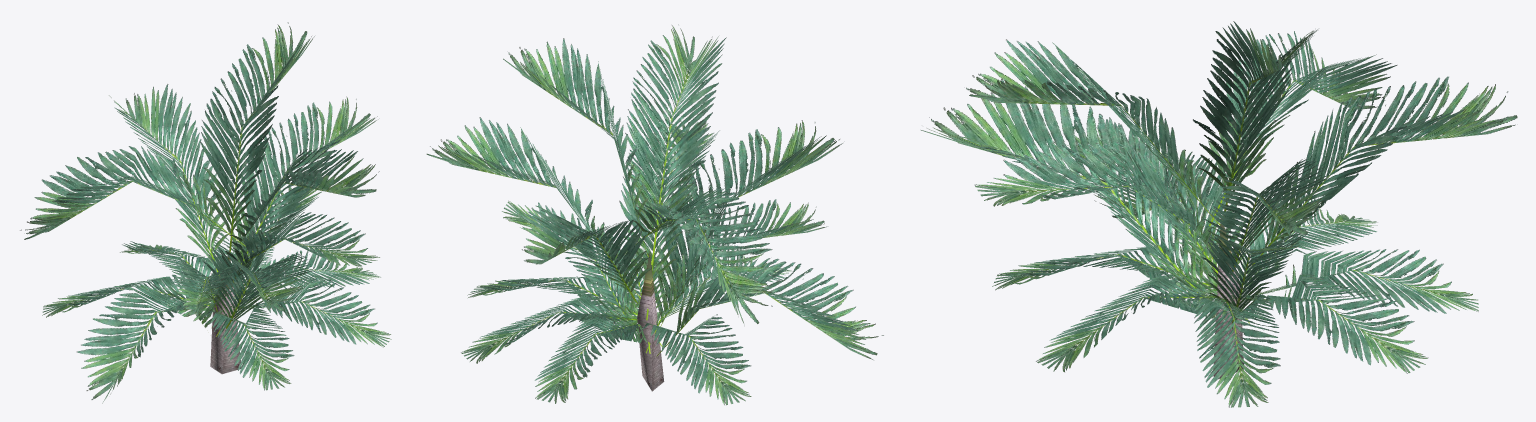
File: palm_beach.glb
The picture shows the model from 3 angles, left to right: view 1: azimuth 30°, elevation 25°; view 2: azimuth 150°, elevation 25°; view 3: azimuth 270°, elevation 25°; orthographic projection. The views are drawn at different scales.
Parts seen in each view (by area): view 1: palm_beach; view 2: palm_beach; view 3: palm_beach.
Boxes of the visible parts, bbox=[...] form: palm_beach: bbox=[20, 22, 391, 403]; palm_beach: bbox=[426, 24, 883, 405]; palm_beach: bbox=[921, 21, 1517, 407].
Size of the model in its own units: 5.61 by 4.59 by 5.94.
2 materials, 2 textured.
